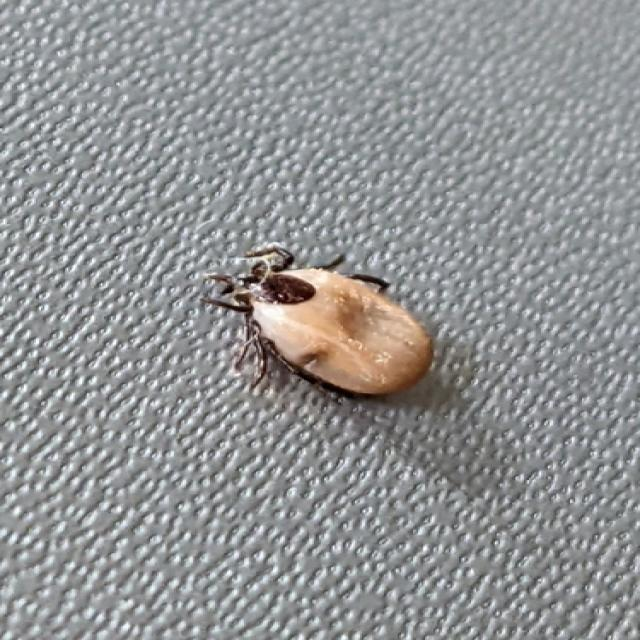Ixodes Ricinus-F-Fed: (203, 244, 435, 403)
